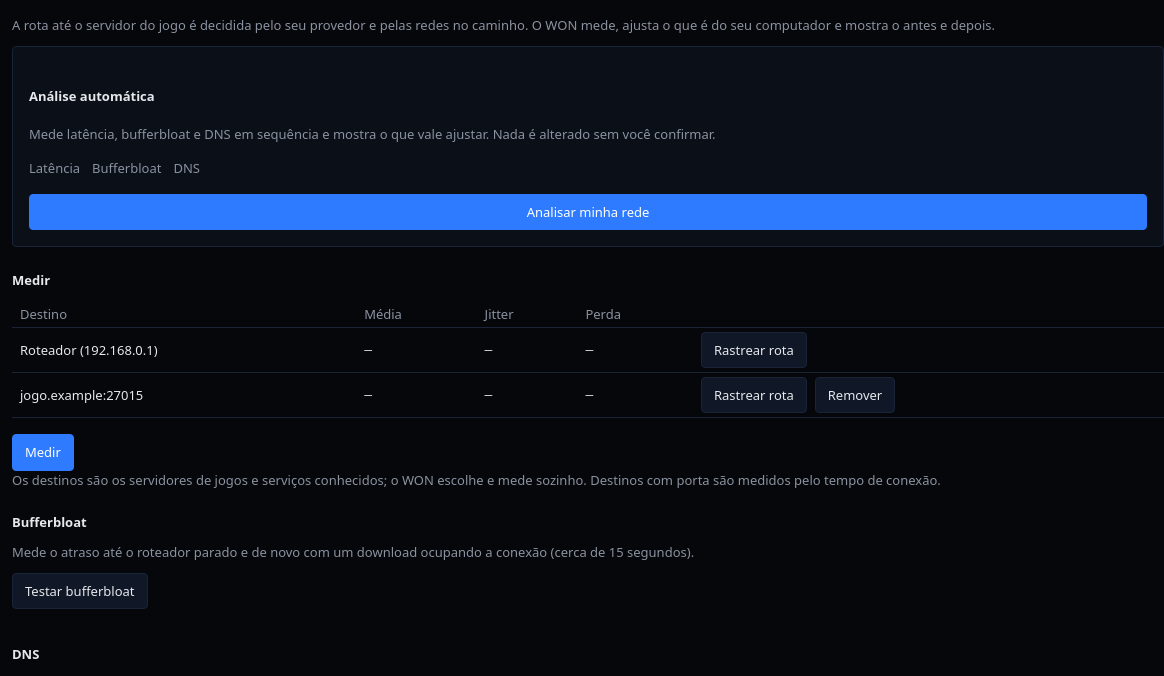
Test case: Rede › trace_marks_delay_start
The width and height of the screenshot is (1164, 676).
Click the button with aria-label "Rastrear rota até jogo.example:27015" at (754, 395), box [701,377,807,414]
(page scrolled)
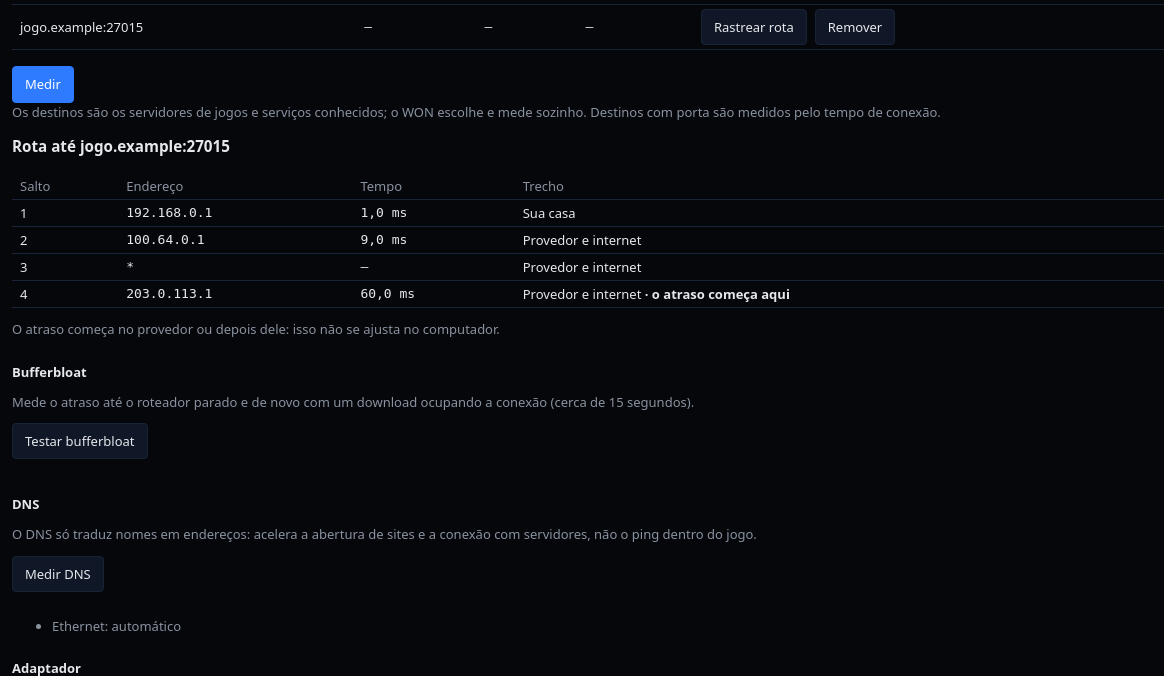
Now the heading "Rota até jogo.example:27015" is shown, box [12,136,230,156]
Now the text "· o atraso começa aqui" is shown, box [641,285,790,303]
Now the text "*" is shown, box [118,254,352,281]
